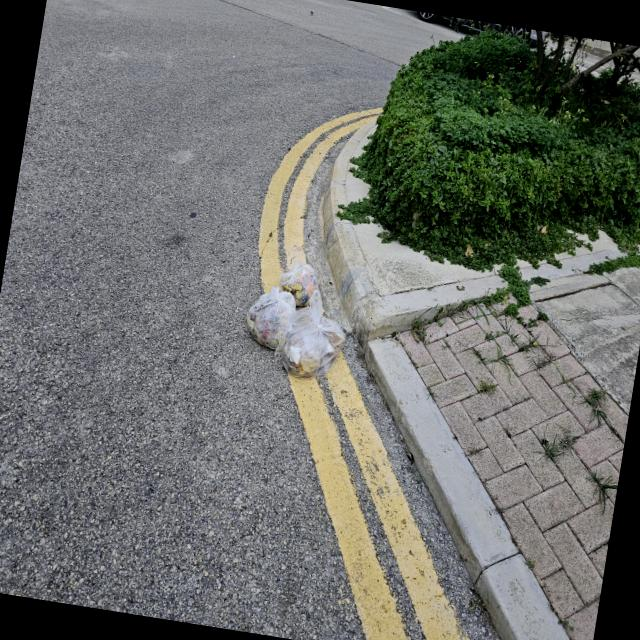white_bag: (275, 285, 354, 386), (240, 282, 300, 357), (274, 258, 323, 309)
